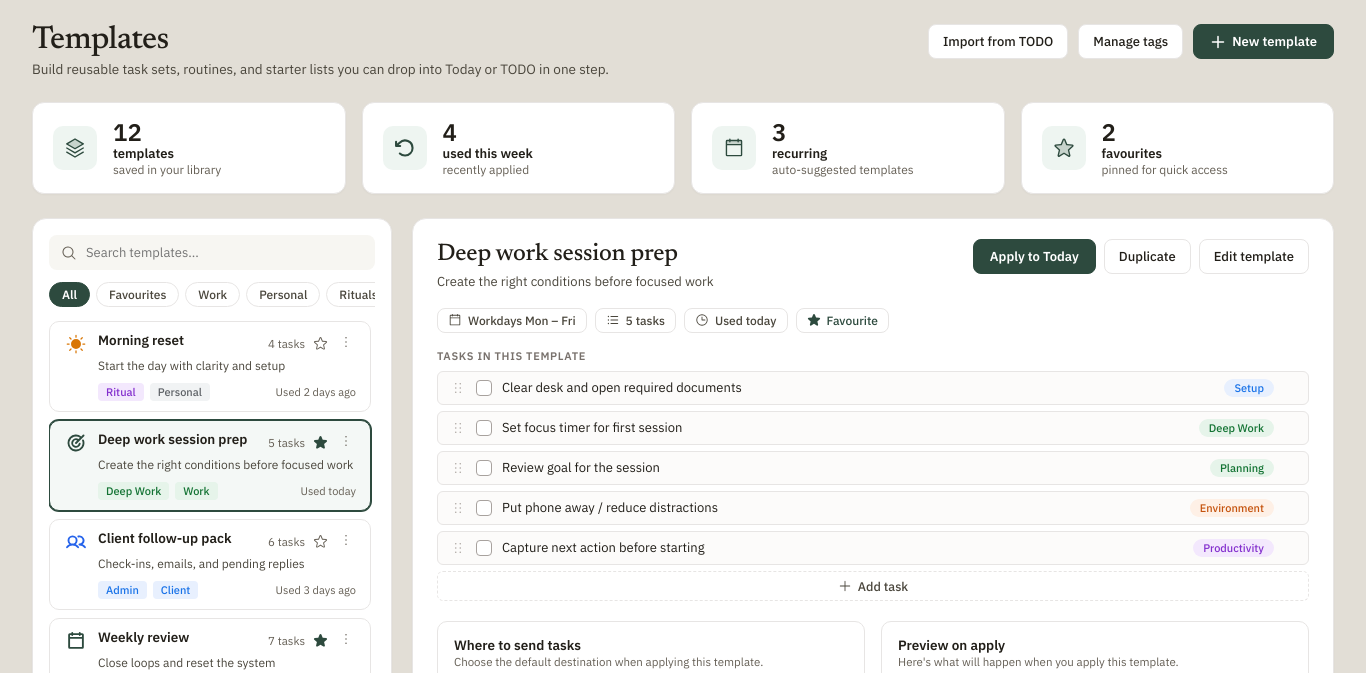
Test: TemplatesView render flows › selects a template from catalog and displays details
Click the text "Morning reset". click: (141, 341)
box: left=98, top=332, right=184, bottom=349
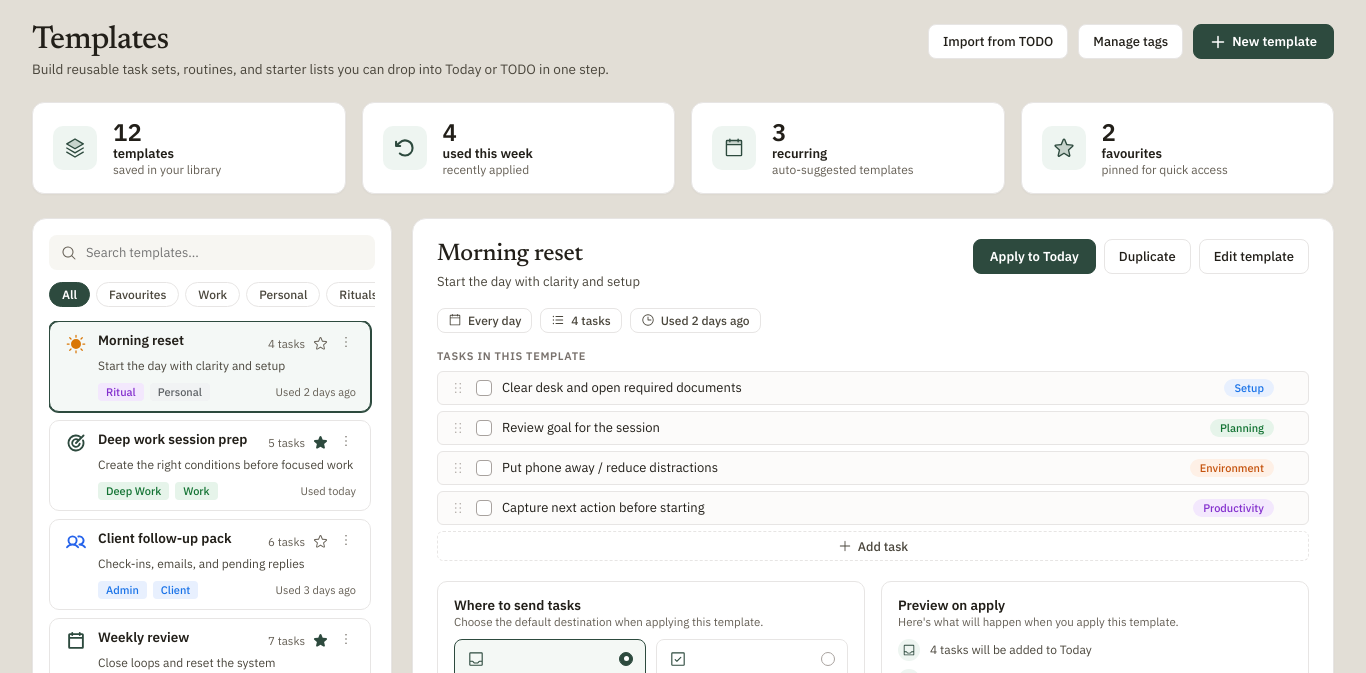
Expected: the 2nd text "Start the day with clarity and setup" is shown, left=98, top=358, right=285, bottom=373
Expected: the heading "Morning reset" is shown, left=437, top=242, right=583, bottom=266
